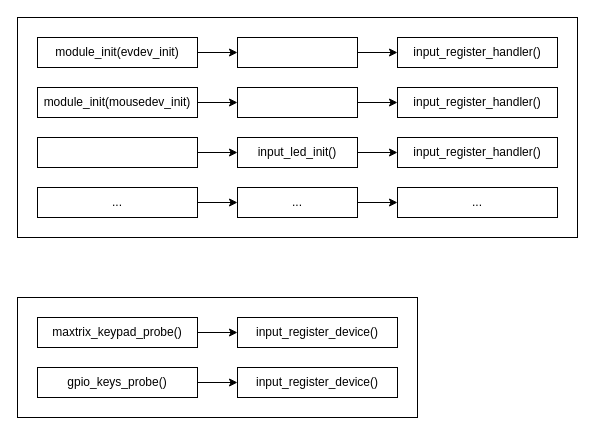
The diagram is 595 pixels wide and 435 high, and some of its shapes have lost their labels. The shapes that lost their labels are listed below. From the top down, each one's centre as x and y in pixels, then its label:
At pixel 297 52: "evdev_init()".
At pixel 297 102: "mousedev_init()".
At pixel 117 152: "module_init(input_led_init)".
